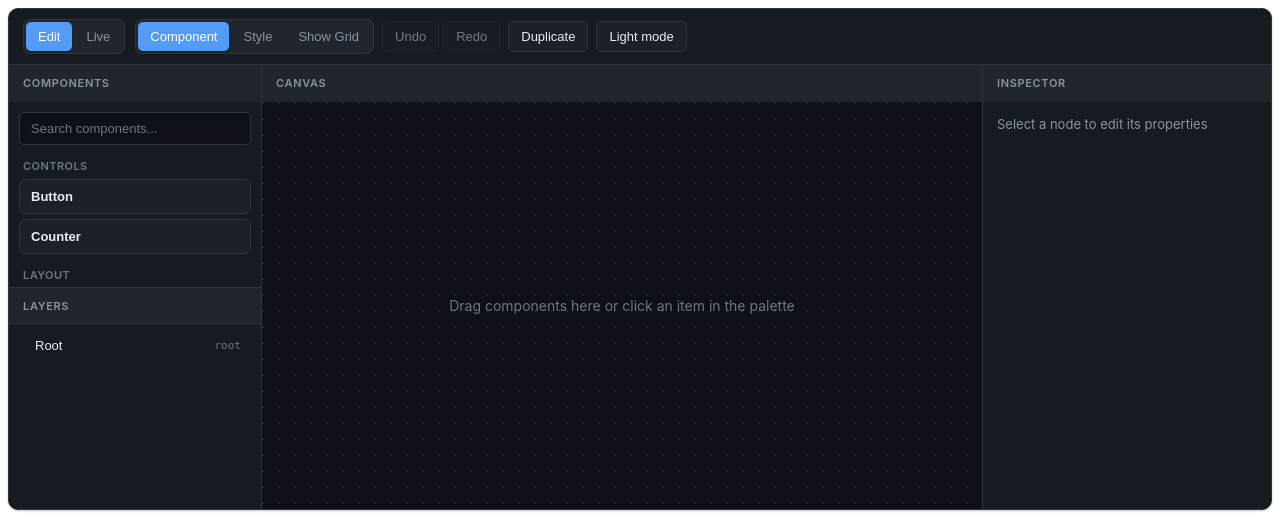
ViewFoundryEditor › opens in dark theme by default and toggles light mode
Click the button named "Switch to light mode" at (642, 36), box [596,21,687,52]
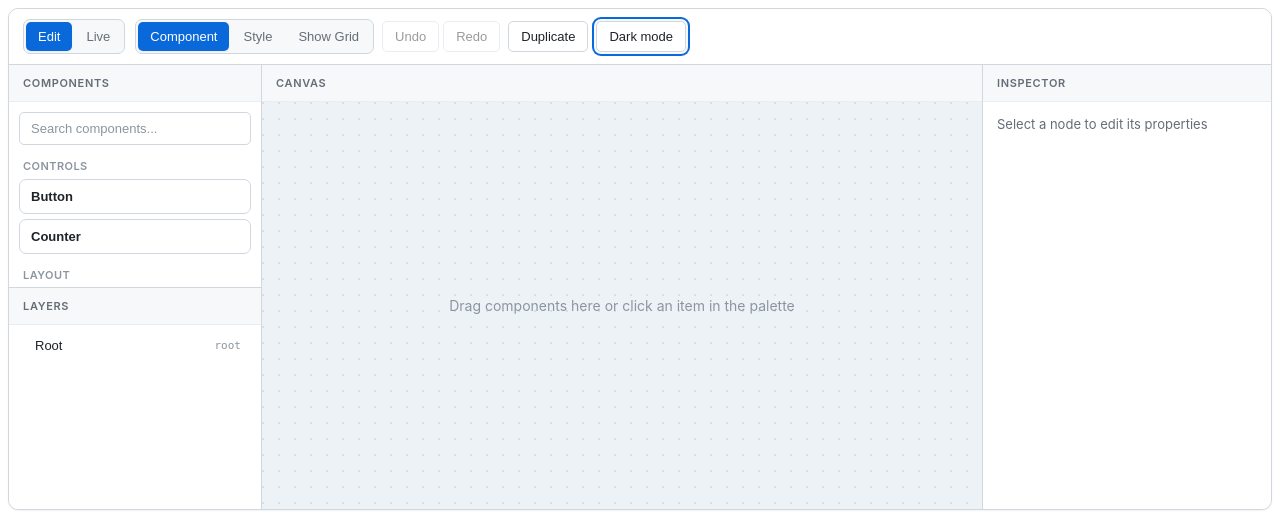
Expected: the button named "Switch to dark mode" is shown, [596,21,686,52]
